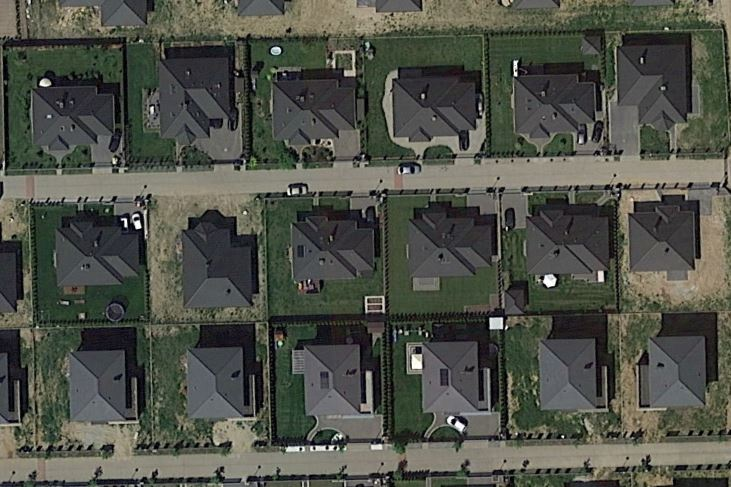family house: (152, 54, 235, 147), (269, 71, 364, 151), (614, 40, 689, 136), (390, 70, 482, 146), (53, 213, 143, 290), (26, 81, 120, 153), (285, 211, 379, 281), (180, 221, 253, 310), (404, 210, 494, 279), (524, 207, 610, 278), (509, 71, 598, 138), (418, 336, 483, 418), (183, 341, 248, 422), (64, 346, 130, 425), (628, 201, 698, 275), (646, 332, 712, 410), (537, 334, 600, 415), (300, 341, 364, 420)
